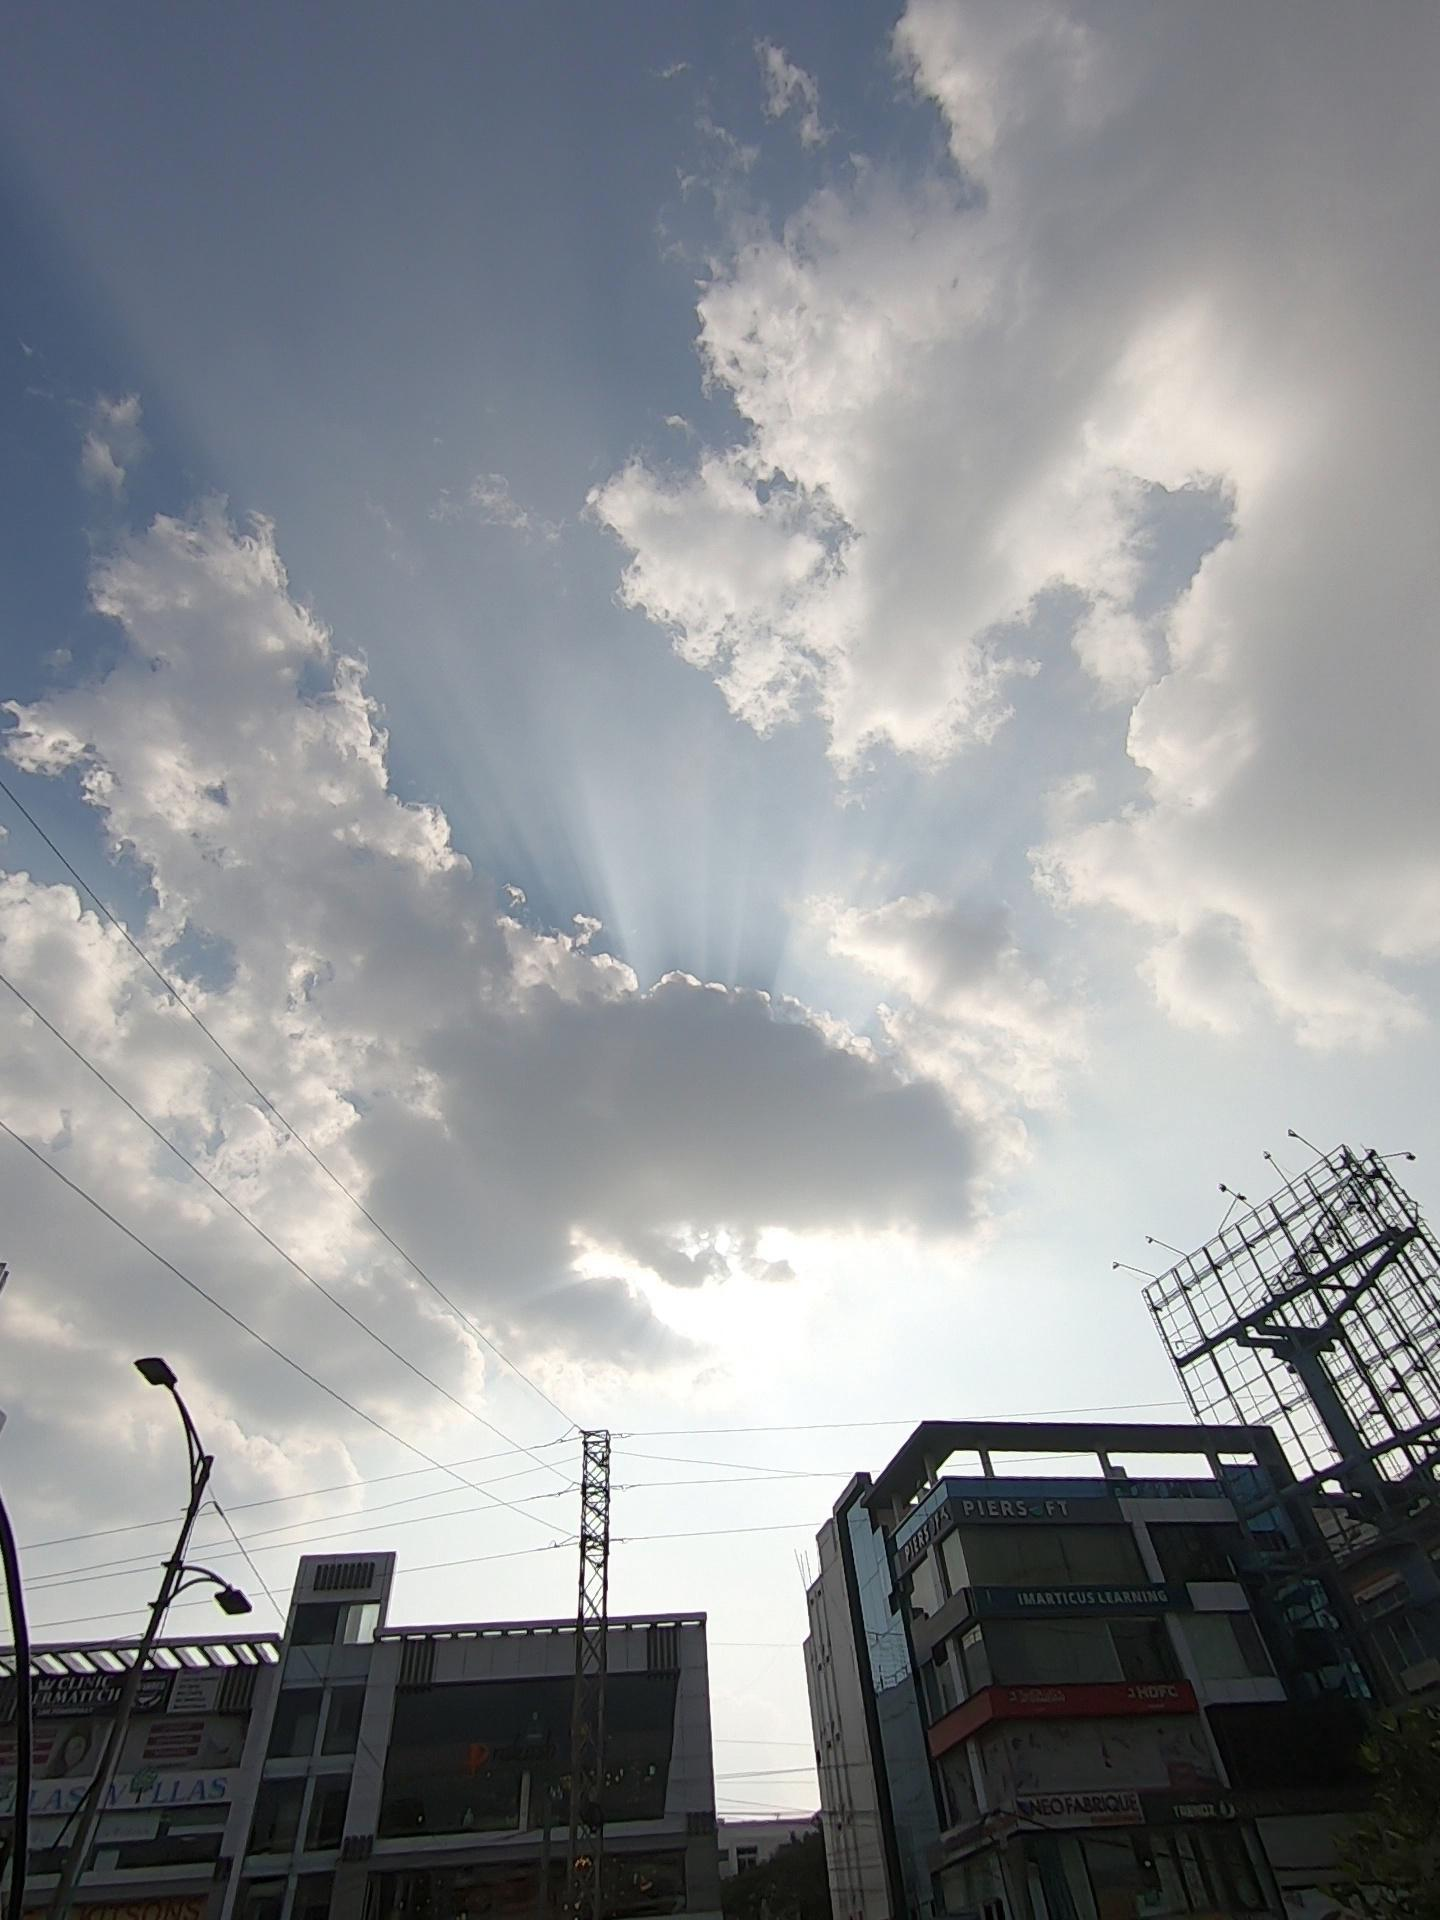off: (30, 1287, 304, 1776)
